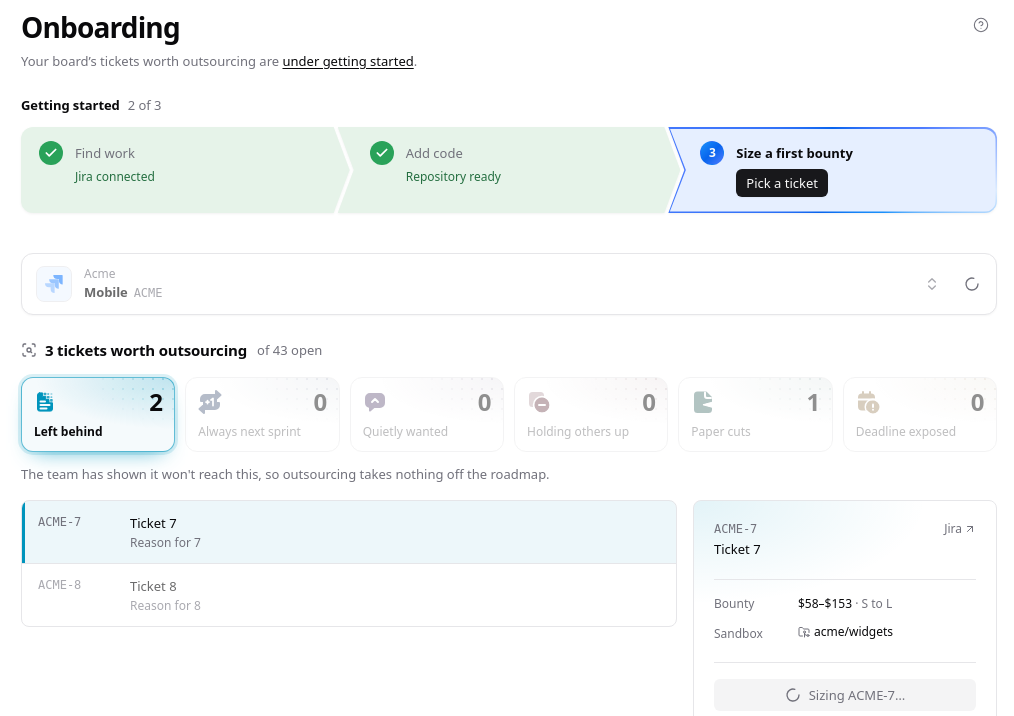
Scenario: a ticket still being sized after a reload holds the scan and the board
Expected: the button "Sizing ACME-7…" is disabled, [714,679,976,711]
Expected: the button "ACME-8 Ticket 8 Reason for 8" is disabled, [22,564,676,626]
Click the button named "Board actions". click: point(972, 284)
box: [954,266,990,302]
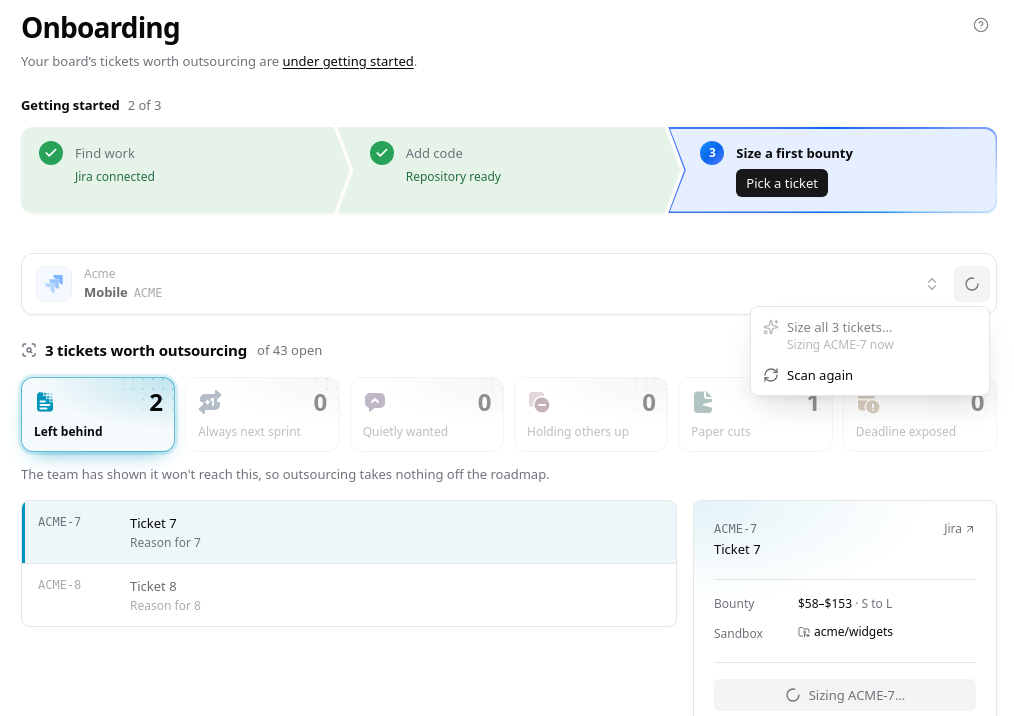
Result: the menu item "Size all 3 tickets… Sizing ACME-7 now" is shown at [763,318,894,353]
